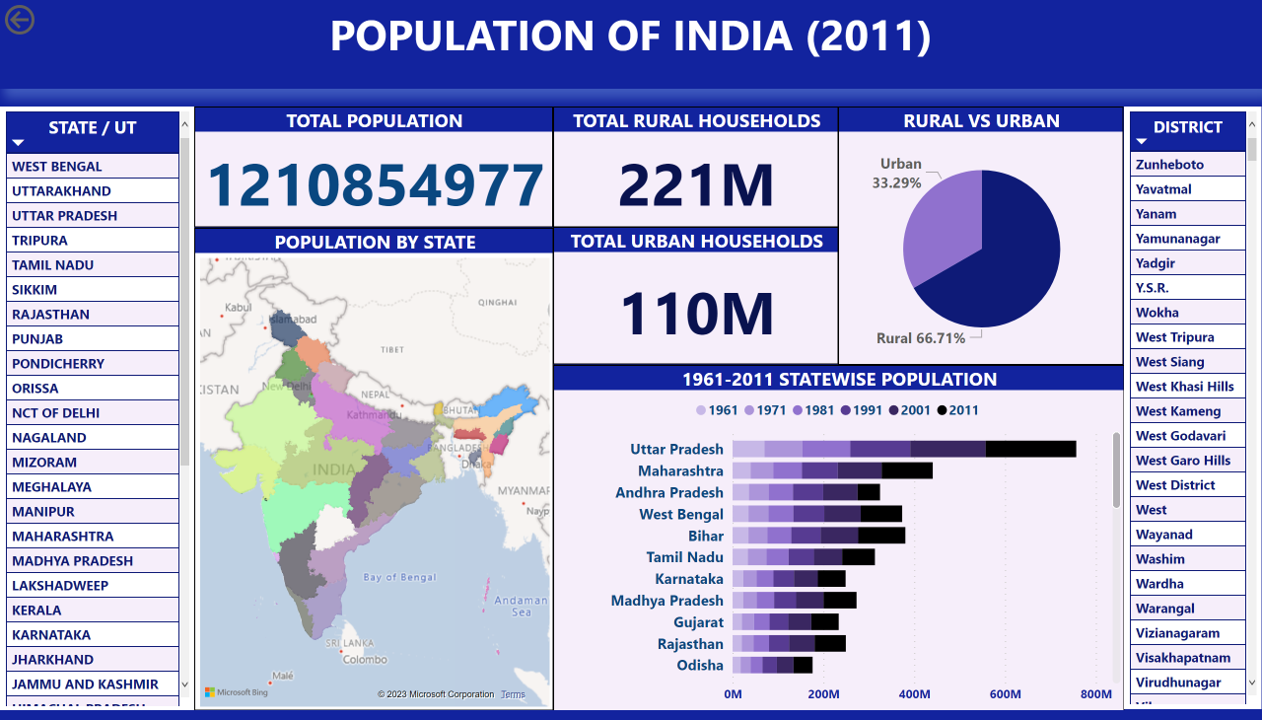

This screenshot's page, from the dashboard's own definition file:
{"tool":"powerbi","page":{"name":"Population","canvas":[1280,720],"ordinal":0},"visuals":[{"type":"filledMap","title":"POPULATION BY STATE","fields":{"Category":["india-districts-census-2011.State name"],"Series":["india-districts-census-2011.Population"]},"box":[196.5,230.6,364.7,489.5],"z":0},{"type":"textbox","box":[0,0,1280,90],"z":1000},{"type":"card","title":"TOTAL POPULATION","fields":{"Values":["Sum(india-districts-census-2011.Population)"]},"box":[196.8,107.7,363.9,122.6],"z":2000},{"type":"barChart","title":"1961-2011 STATEWISE POPULATION","fields":{"Category":["india-states-census.State or union territory"],"Y":["Sum(india-states-census.Population (1961 Census))","Sum(india-states-census.Population (1971 Census))","Sum(india-states-census.Population (1981 Census))","Sum(india-states-census.Population (1991 Census))","Sum(india-states-census.Population (2001 Census))","Sum(india-states-census.Population (2011 Census))"]},"box":[560.8,369.5,579.3,351],"z":3000},{"type":"tableEx","fields":{"Values":["india-districts-census-2011.State name"]},"box":[0,107.7,196.8,612.8],"z":4000},{"type":"card","title":"TOTAL RURAL HOUSEHOLDS","fields":{"Values":["Sum(india-districts-census-2011.Rural_Households)"]},"box":[560.8,107.7,289.7,122.6],"z":5000},{"type":"card","title":"TOTAL URBAN HOUSEHOLDS","fields":{"Values":["Sum(india-districts-census-2011.Urban_Households)"]},"box":[560.8,230.3,289.7,139.3],"z":6000},{"type":"pieChart","title":"RURAL VS URBAN ","fields":{"Y":["Sum(india-districts-census-2011.Rural_Households)","Sum(india-districts-census-2011.Urban_Households)"]},"box":[850.5,107.7,289.7,261.8],"z":7000},{"type":"actionButton","box":[0,0,100,40],"z":8000},{"type":"tableEx","fields":{"Values":["india-districts-census-2011.District name"]},"box":[1140.1,107.7,139.3,610.9],"z":9000}]}

Visuals, with their boxes in screenshot pixels (x1, y1, x2, y2), scaled from the page's 1280x720 canvas onto the 1262x720 screenshot:
"POPULATION BY STATE" filledMap: (left=194, top=231, right=553, bottom=719)
textbox: (left=0, top=0, right=1261, bottom=90)
"TOTAL POPULATION" card: (left=194, top=108, right=553, bottom=230)
"1961-2011 STATEWISE POPULATION" barChart: (left=553, top=370, right=1124, bottom=719)
tableEx - india-districts-census-2011.State name: (left=0, top=108, right=194, bottom=719)
"TOTAL RURAL HOUSEHOLDS" card: (left=553, top=108, right=839, bottom=230)
"TOTAL URBAN HOUSEHOLDS" card: (left=553, top=230, right=839, bottom=370)
"RURAL VS URBAN " pieChart: (left=839, top=108, right=1124, bottom=370)
actionButton: (left=0, top=0, right=99, bottom=40)
tableEx - india-districts-census-2011.District name: (left=1124, top=108, right=1261, bottom=719)
